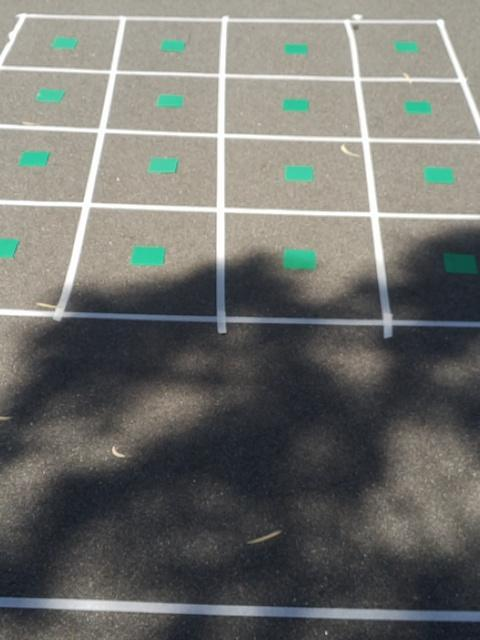weed: (443, 250, 480, 277), (129, 244, 168, 269), (283, 249, 317, 271), (283, 164, 315, 183), (424, 165, 456, 184), (148, 157, 179, 175), (19, 149, 51, 166), (403, 98, 433, 116), (34, 88, 68, 103), (280, 97, 310, 113), (0, 237, 22, 256), (393, 39, 420, 54), (154, 94, 186, 105), (159, 39, 186, 52), (52, 37, 79, 48), (285, 41, 309, 53)
